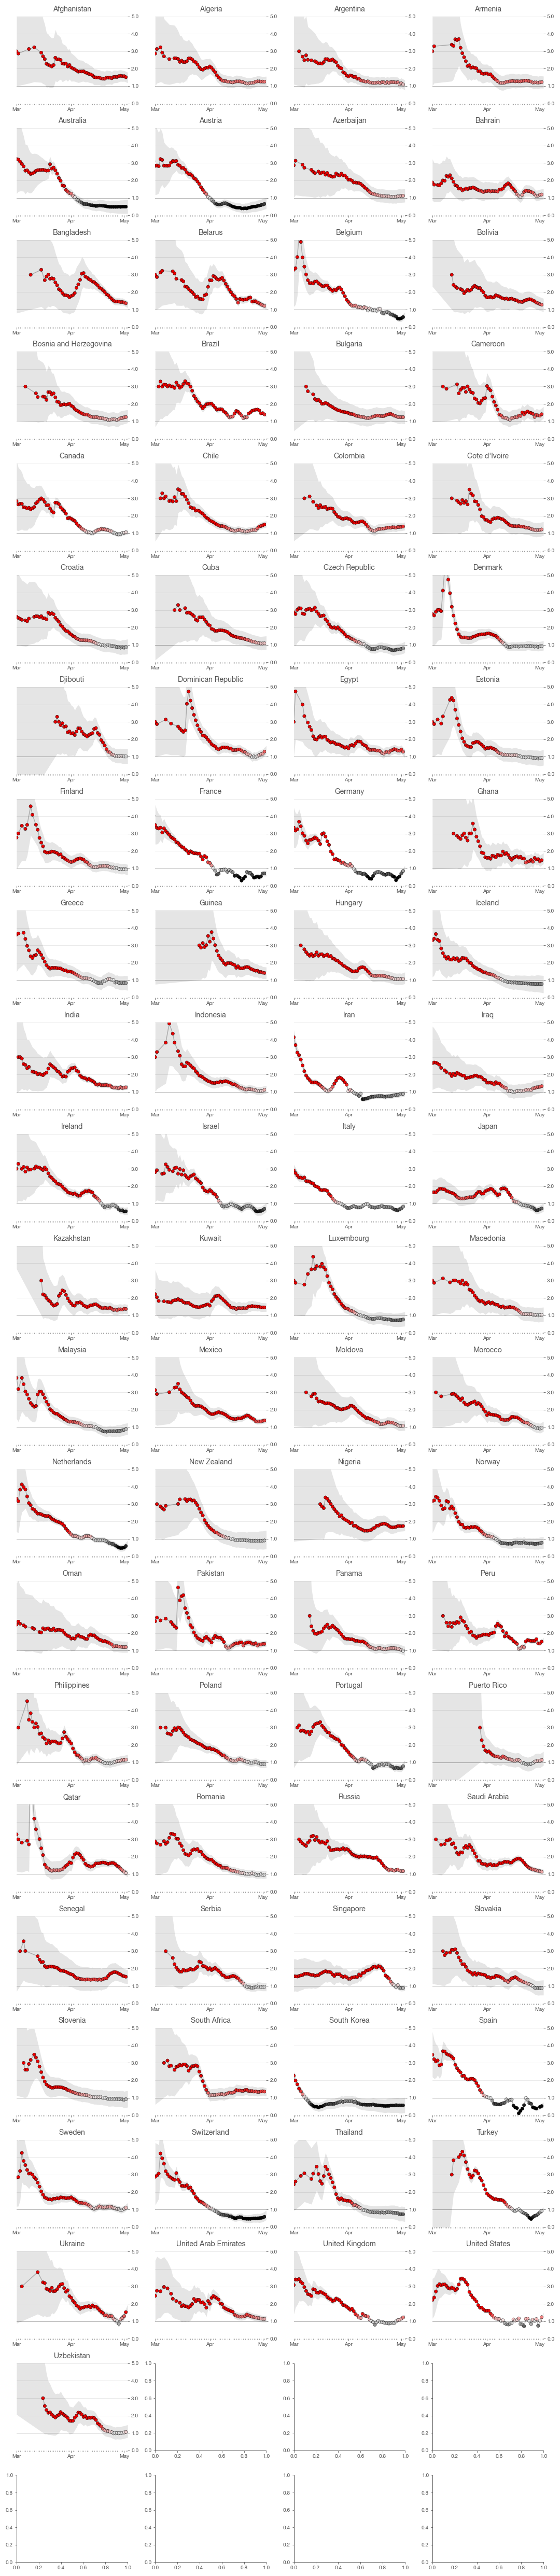

The dashboard page shown, as its layout file describes it:
{"tool":"tableau","page":{"name":"World","canvas":[800,600],"ordinal":1},"visuals":[{"type":"filter","title":"țări","param":"[federated.1bdh71i0e274h21adeujv04aok5j].[none:location (global1_raw_data_latest","box":[8,8,784,52]},{"type":"worksheet","title":"țări","mark":"Automatic","rows":["new_cases","ML"],"cols":["date (global1_raw_data_latest.csv)"],"box":[8,60,784,450]},{"type":"text","box":[8,510,784,82]}]}

Visuals, with their boxes on the page's 800x600 design canvas (x1, y1, x2, y2). These are canvas units, not pixel positions in the 560x2576 screenshot, which may show the page scaled, cropped or inside an application window:
"țări" filter: box=[8, 8, 792, 60]
"țări" worksheet: box=[8, 60, 792, 510]
text: box=[8, 510, 792, 592]
